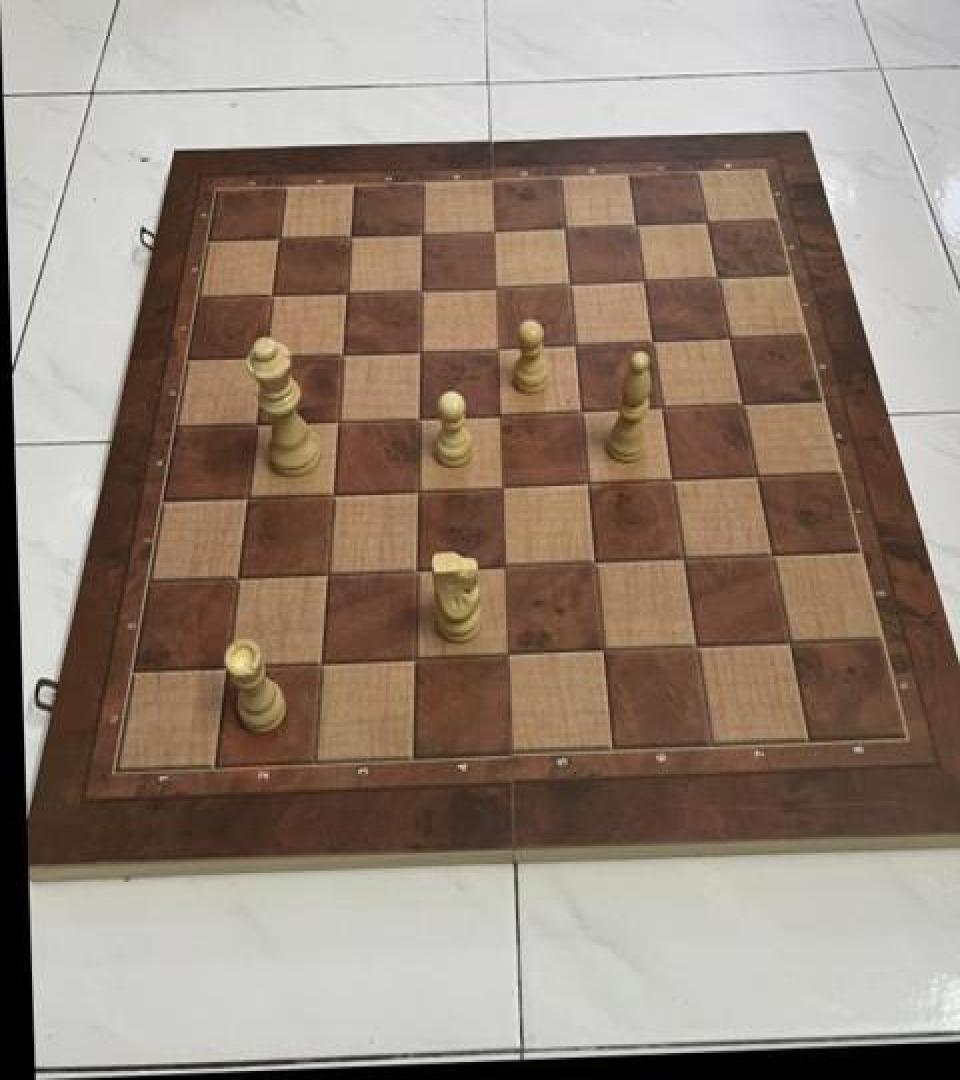xcorner: (666, 543, 698, 580), (400, 552, 432, 589), (305, 644, 337, 681), (688, 206, 720, 242), (618, 208, 650, 244), (546, 210, 578, 246), (404, 215, 436, 251), (333, 217, 365, 253), (261, 220, 293, 256), (699, 262, 731, 298), (626, 264, 658, 300), (478, 269, 510, 305), (403, 271, 435, 307), (329, 274, 361, 310), (254, 276, 286, 312), (711, 323, 743, 359), (634, 325, 666, 361), (557, 328, 589, 364), (480, 330, 512, 366), (403, 333, 435, 369), (325, 335, 357, 371), (247, 338, 279, 374), (724, 388, 756, 424), (644, 392, 676, 428), (563, 394, 595, 430), (483, 396, 515, 432), (402, 400, 434, 436), (321, 402, 353, 438), (239, 405, 271, 441), (739, 461, 771, 497), (655, 464, 687, 500), (570, 467, 602, 503), (486, 469, 518, 505), (401, 472, 433, 508), (316, 475, 348, 511), (231, 478, 263, 514), (754, 540, 786, 576), (577, 547, 609, 583), (489, 549, 521, 585), (311, 556, 343, 592), (221, 559, 253, 595), (772, 628, 804, 664), (679, 631, 711, 667), (586, 634, 618, 670), (492, 638, 524, 674), (399, 641, 431, 677), (211, 648, 243, 684), (475, 213, 507, 248), (552, 267, 584, 302)
